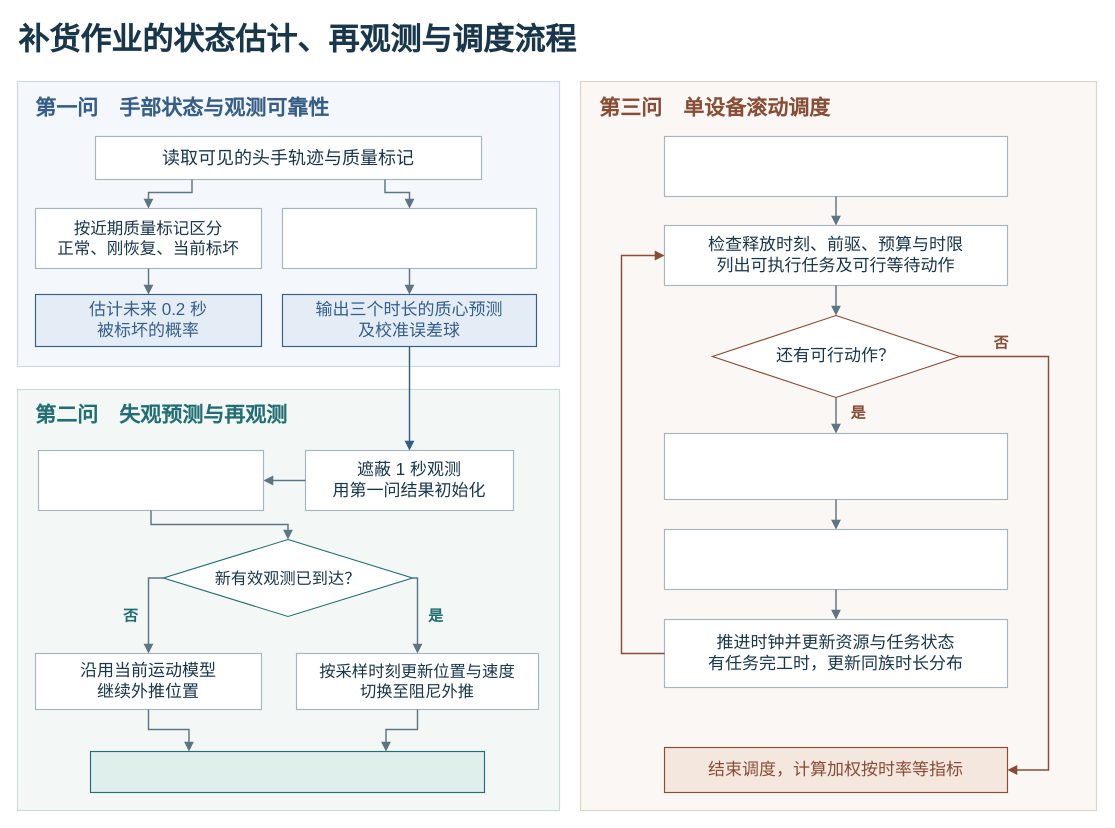
This 1115x828 diagram has some shape labels left out. The shapes that lost their labels are listed below. From the top down, each one's centre as x and y in pixels, then its label:
At point (835, 166): "从训练标注估计各任务族时长 读取任务表、区域距离与资源约束".
At point (409, 238): "取手部 21 点质心，分解头手运动 用旋转模型与残差修正预测位置".
At point (150, 480): "0.3、0.6 秒各请求一次 每次成本 1，延迟 0.1 秒".
At point (835, 466): "抽取 64 个联合时长场景 逐个首动作模拟后续路线至终止".
At point (835, 559): "选择平均按时完成权重最高的动作 执行任务或等待下一次释放".
At point (287, 771): "逐时刻输出失观期间的质心轨迹与误差球".
